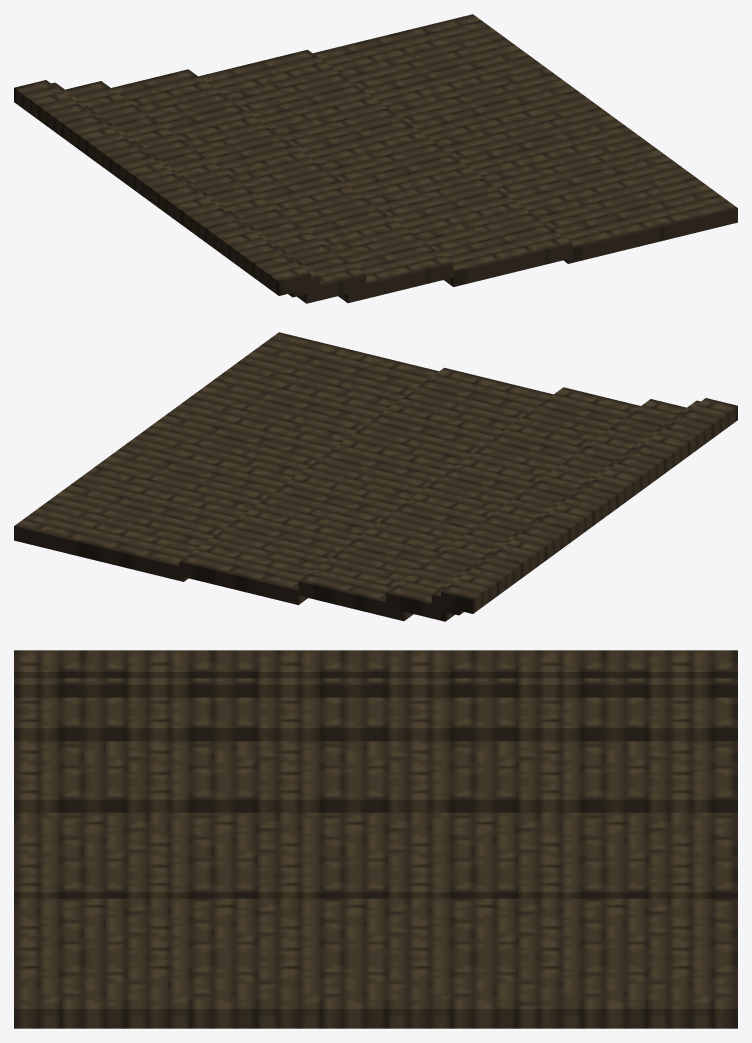
The model's file is Floor_C_00.fbx.
3 renders of one model, top to bottom at view 1: azimuth 30°, elevation 25°; view 2: azimuth 150°, elevation 25°; view 3: azimuth 270°, elevation 25°, orthographic. The views are drawn at different scales.
Parts seen in each view (by area): view 1: Floor_C_00; view 2: Floor_C_00; view 3: Floor_C_00.
Part boxes in pixels (x1,y1,x2,y2): Floor_C_00: [14, 14, 737, 303]; Floor_C_00: [14, 332, 737, 621]; Floor_C_00: [14, 650, 737, 1028].
Bounding box in the file's own units: 500 × 55 × 500.
